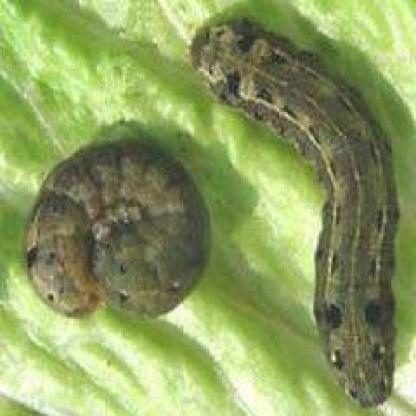armyworm: (193, 19, 398, 411), (25, 134, 215, 329)
